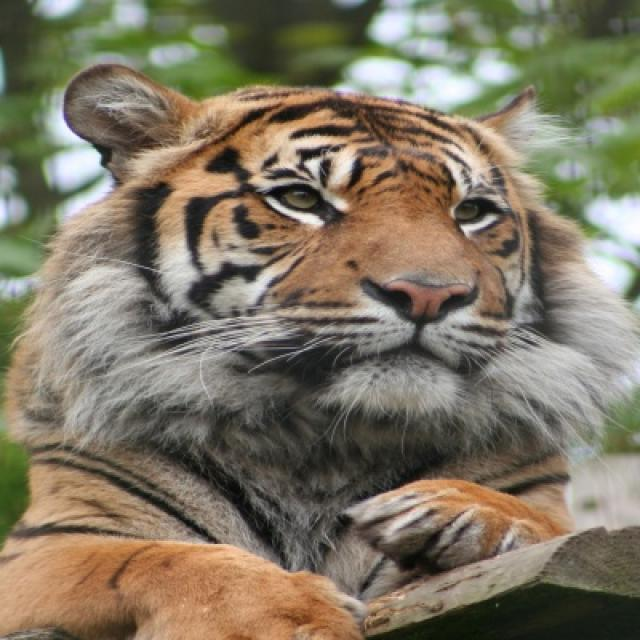Tiger: (0, 58, 633, 638)
